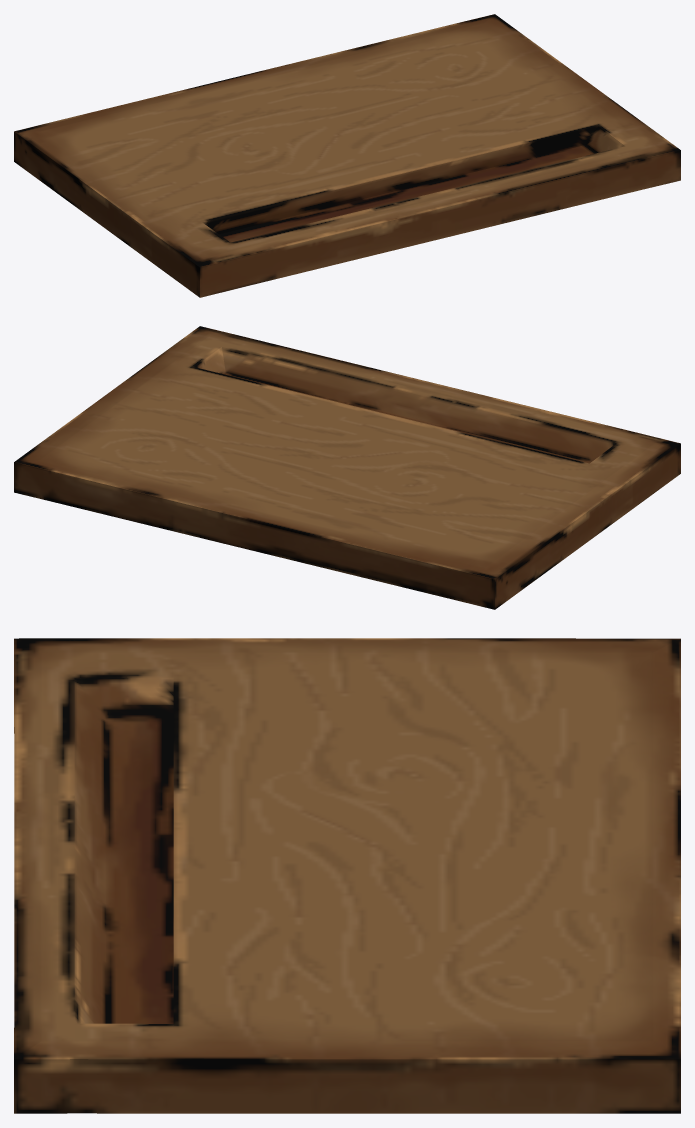
Rendered from ChoppingBoard.fbx.
The picture shows the model from 3 angles, top to bottom: view 1: azimuth 30°, elevation 25°; view 2: azimuth 150°, elevation 25°; view 3: azimuth 270°, elevation 25°; orthographic projection. The views are drawn at different scales.
Parts seen in each view (by area): view 1: Cutting Board; view 2: Cutting Board; view 3: Cutting Board.
Boxes of the visible parts, x1,y1,x2,y2 form: Cutting Board: [14, 14, 680, 297]; Cutting Board: [14, 326, 680, 609]; Cutting Board: [14, 638, 680, 1113].
Bounding box in the file's own units: 165 × 110 × 11.46.
1 material, 1 textured.
